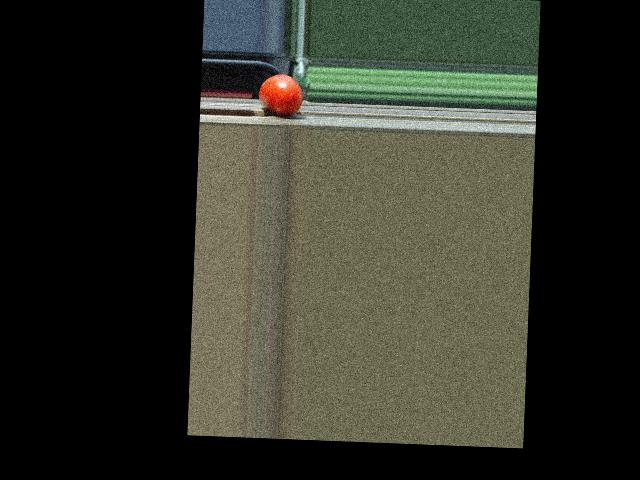tomato: (258, 73, 304, 114)
